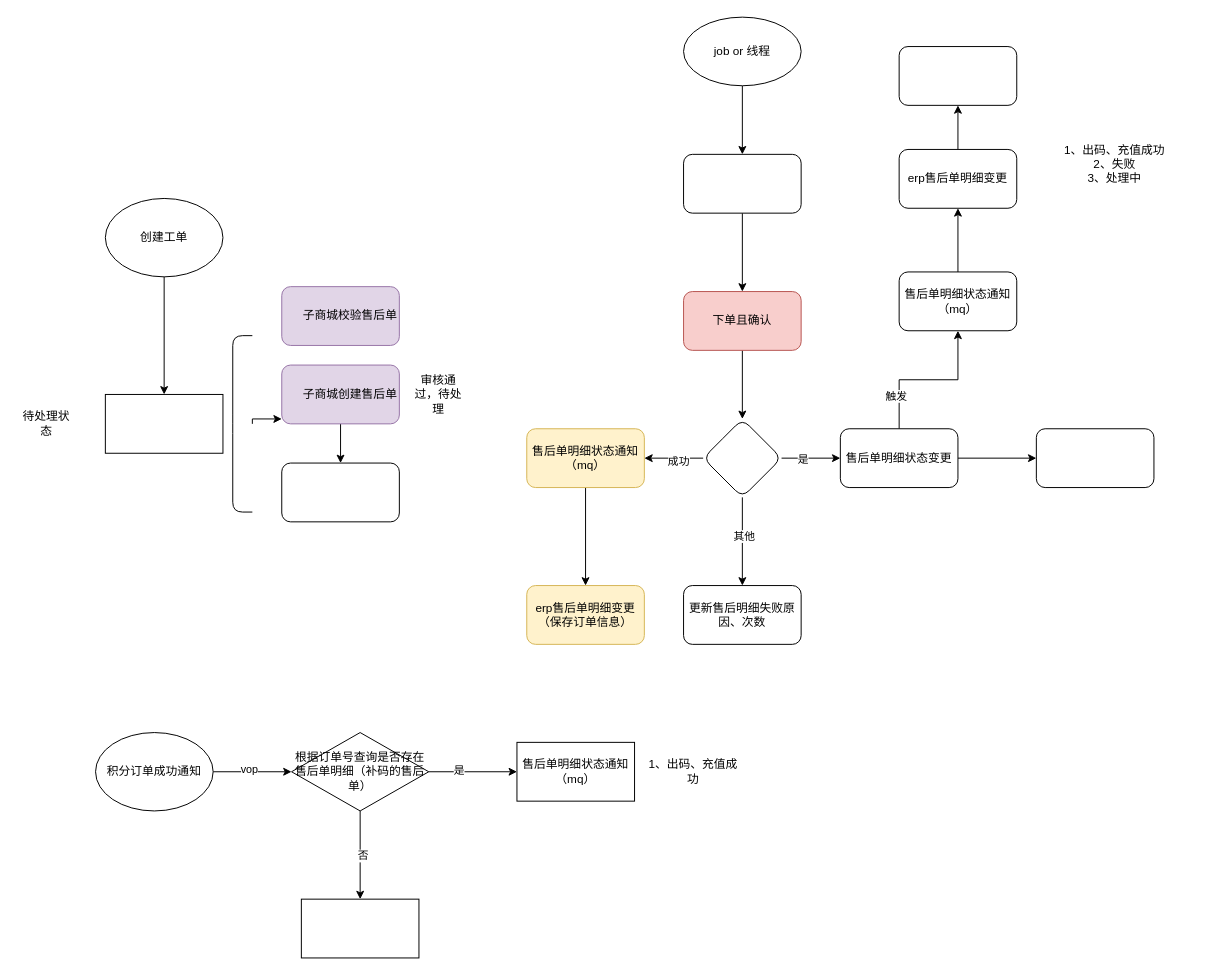
This 1219x975 diagram has some shape labels left out. Here are the shapes that lost their labels. From the top down, the centre of each, then its label:
At point 957,75: "通知工单".
At point 742,183: "扫描导码类型的售后单商品明细".
At point 163,423: "创建售后单".
At point 742,457: "是否失败且失败次数>=3".
At point 1094,458: "售后单状态变更".
At point 340,492: "ep创建售后单".
At point 359,928: "之前逻辑".
